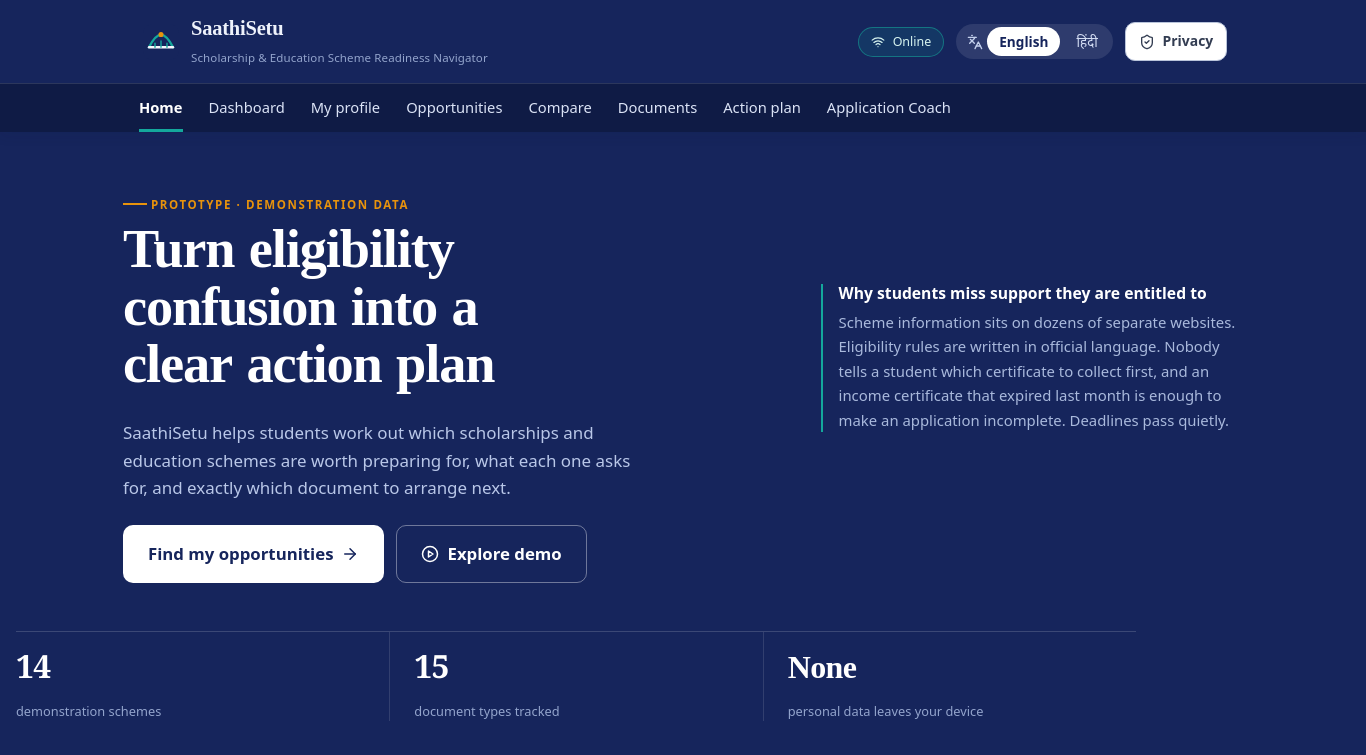
it: the profile wizard › advances once an answer is given and persists it immediately
This screenshot has width=1366, height=755.
What coordinates should you click on to do the following:
click the button "Find my opportunities"
I would click on:
 (254, 554)
Its box is [123,526,384,583].
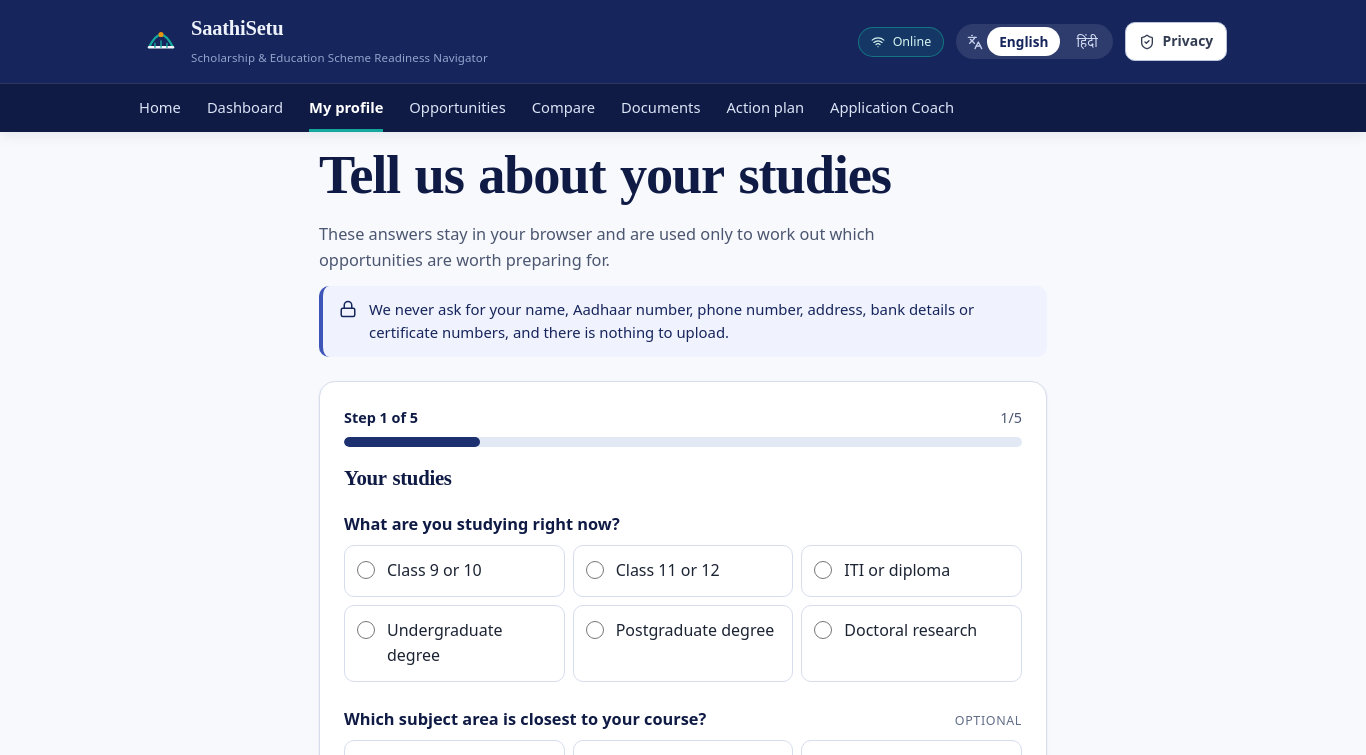
What coordinates should you click on to do the following:
click the radio button labelled "Undergraduate degree"
I would click on:
 (366, 630)
Its box is [357,621,375,639].
(page scrolled)
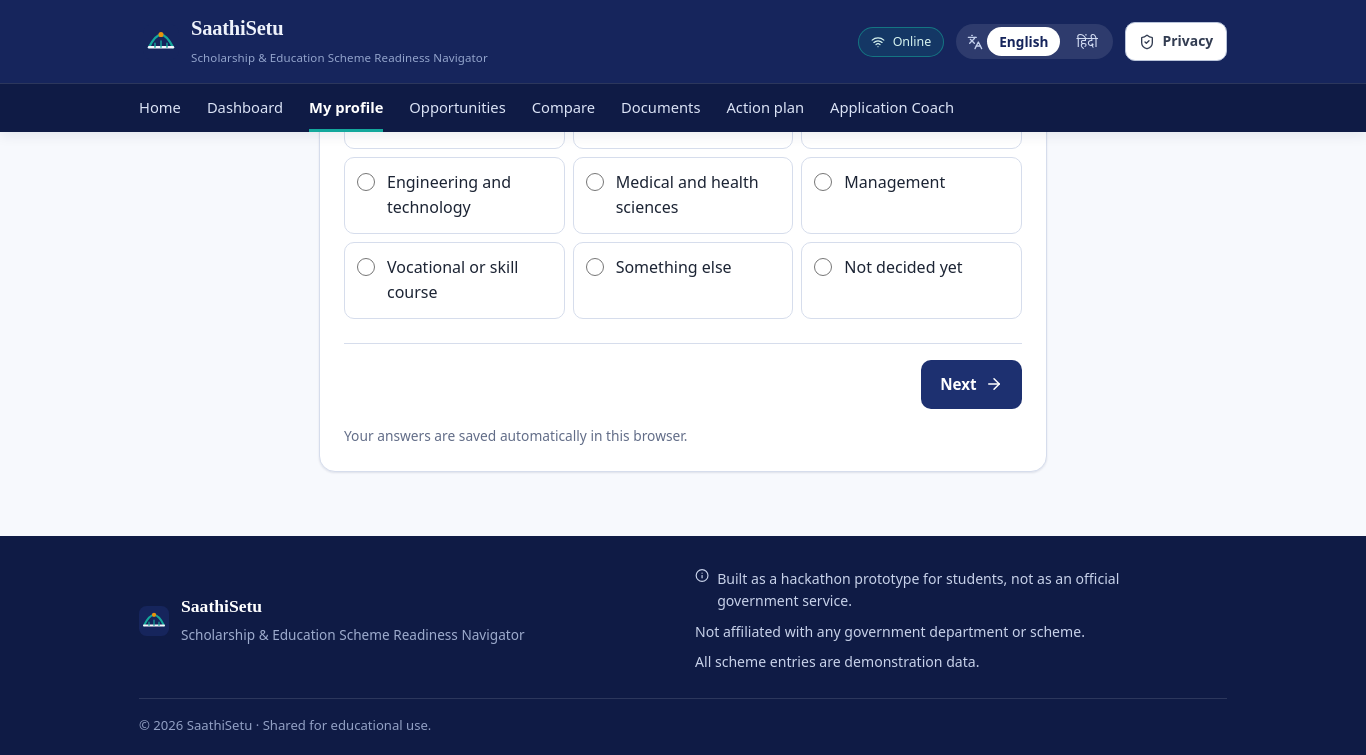
What coordinates should you click on to do the following:
click the button "Next"
I would click on:
 (971, 384)
Its box is [921,360,1022,409].
(page scrolled)
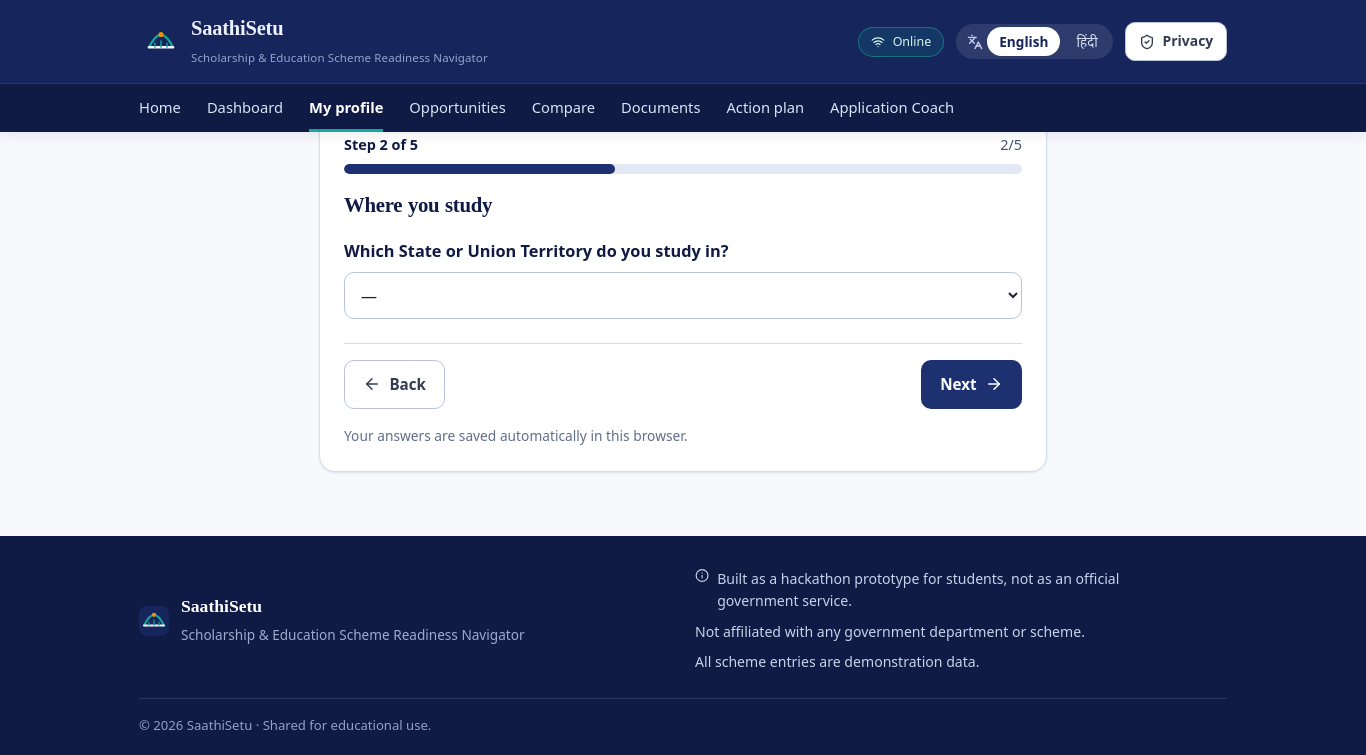
Now the heading "Where you study" is shown, box [344,193,492,225]
